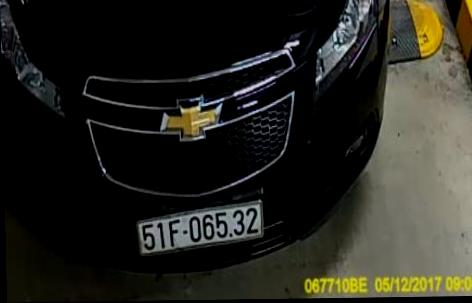License_Plate: (128, 201, 278, 262)
